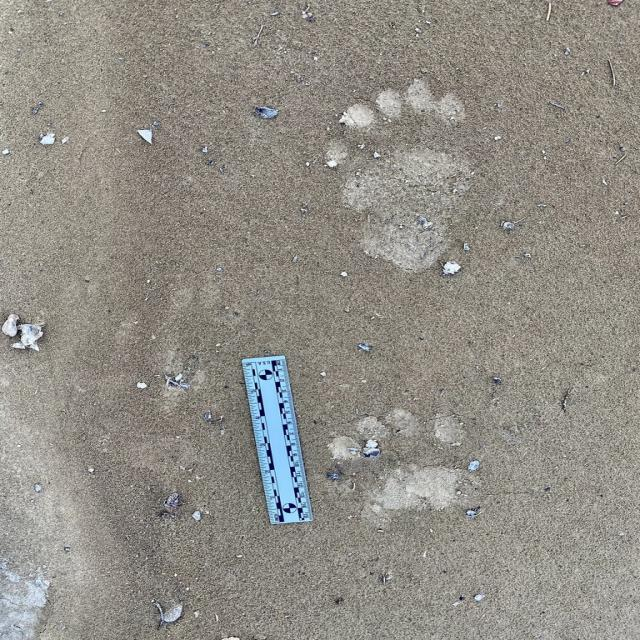bear: (327, 82, 475, 274), (327, 409, 480, 515)
